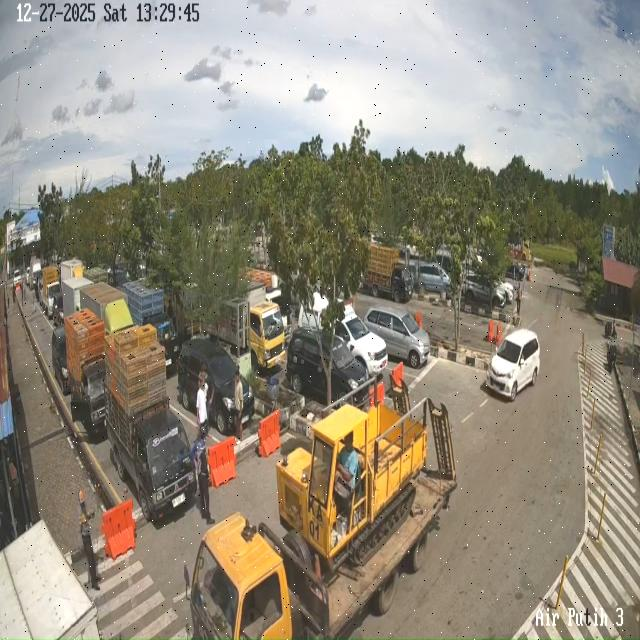Golongan IVA: (177, 338, 255, 435), (286, 327, 369, 405), (364, 306, 430, 368), (486, 329, 540, 401), (462, 272, 506, 308), (51, 326, 70, 395)
Golongan IVB: (108, 363, 199, 521), (72, 343, 105, 441), (363, 243, 413, 303), (40, 266, 60, 318)
Golongan VB: (187, 399, 457, 640), (205, 281, 286, 370), (80, 282, 134, 334)
